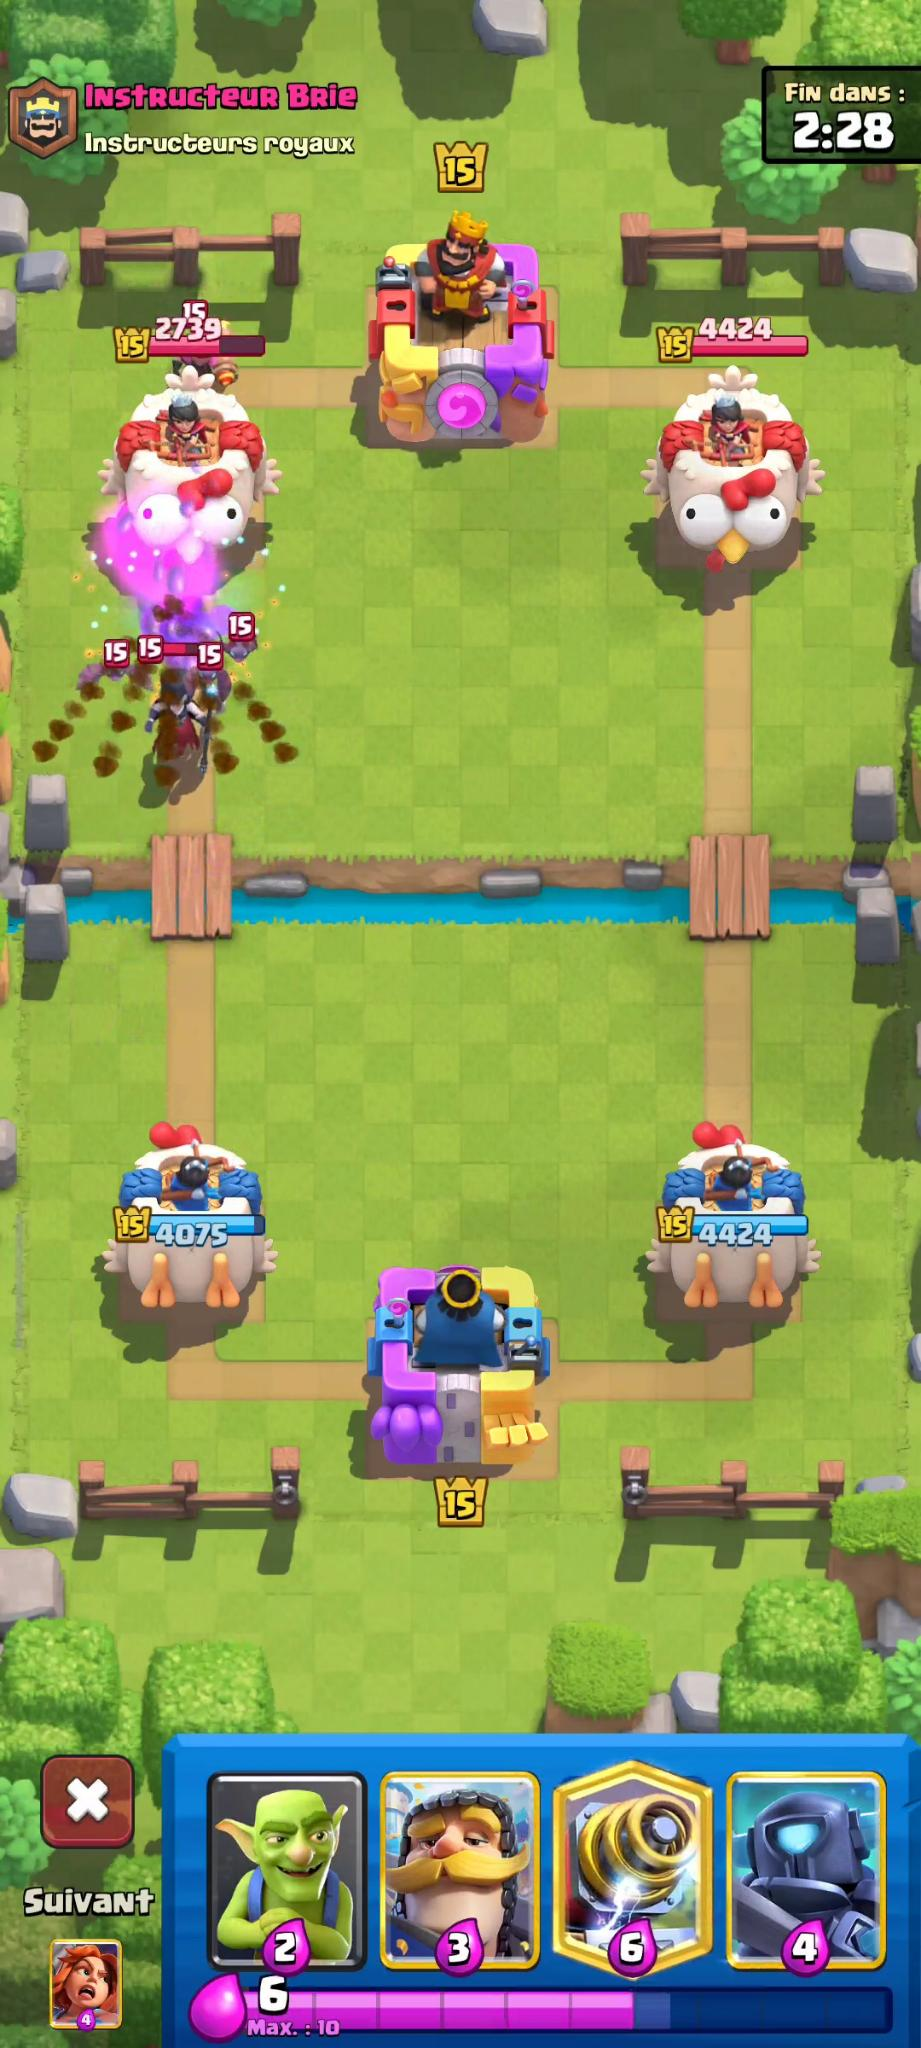bat: (74, 640, 153, 697), (179, 654, 242, 713), (214, 622, 270, 660)
